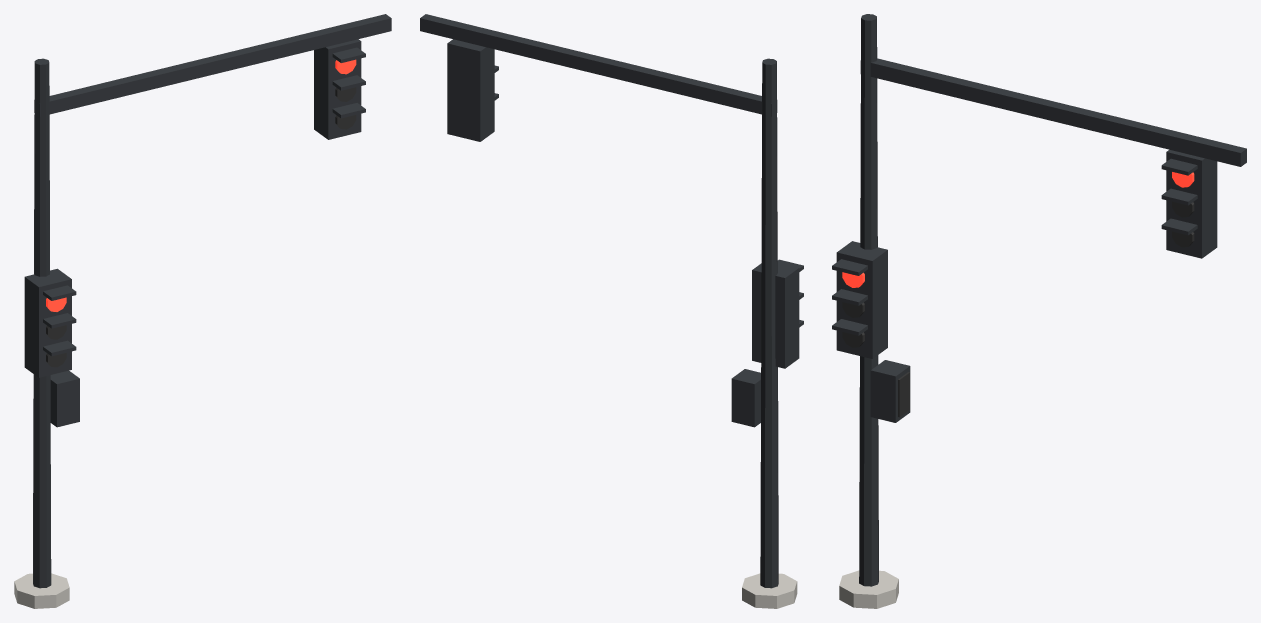
Rendered from traffic-light.glb.
3 renders of one model, left to right at view 1: azimuth 30°, elevation 25°; view 2: azimuth 150°, elevation 25°; view 3: azimuth 330°, elevation 25°, orthographic. The views are drawn at different scales.
Visible parts, largest first — view 1: Traffic_Light; view 2: Traffic_Light; view 3: Traffic_Light.
Boxes of the visible parts, bbox=[...] form: Traffic_Light: bbox=[14, 14, 391, 608]; Traffic_Light: bbox=[420, 14, 803, 608]; Traffic_Light: bbox=[832, 14, 1246, 608].
Size of the model in its own units: 4.5 by 6.2 by 0.76.
